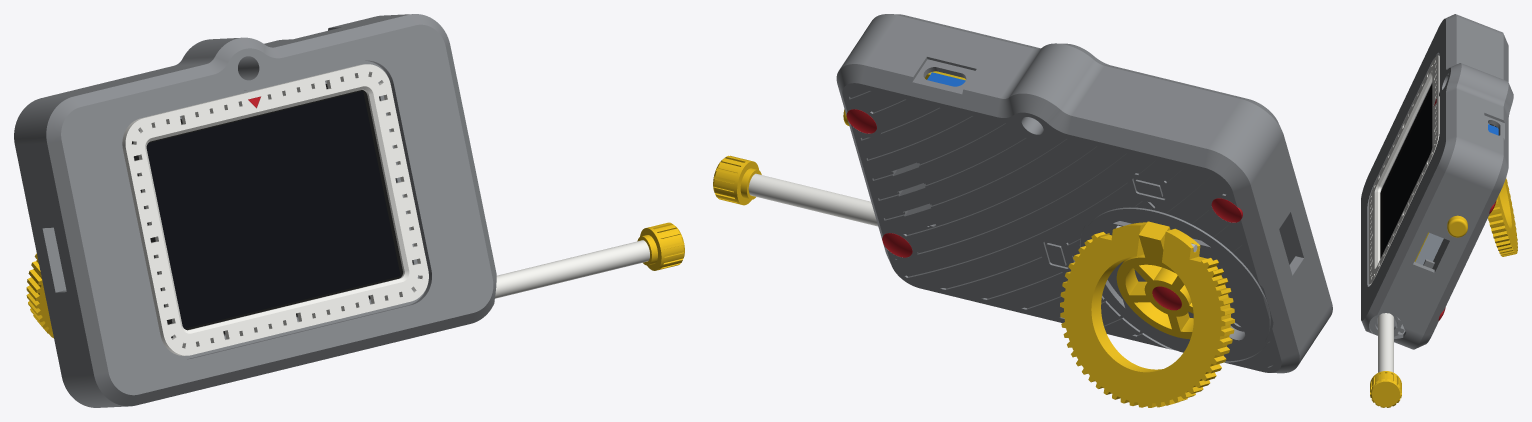
File: kalem.glb
3 renders of one model, left to right at view 1: azimuth 30°, elevation 25°; view 2: azimuth 150°, elevation 25°; view 3: azimuth 270°, elevation 25°, orthographic. The views are drawn at different scales.
Visible parts, largest first — view 1: on_kasa, ekran, panel, arka_kapak, kalem, ic_lcd, kurma_kolu, cark_halka; view 2: arka_kapak, on_kasa, cark_halka, cark_gobek, kalem, kurma_kolu; view 3: on_kasa, arka_kapak, panel, ekran, cark_halka, kurma_kolu, kalem, ic_lcd, ic_pil, itici.
Part boxes in pixels (x1,y1,x2,y2): on_kasa: [24, 14, 496, 407]; ekran: [146, 91, 400, 328]; panel: [122, 64, 428, 355]; arka_kapak: [14, 15, 388, 407]; kalem: [495, 240, 649, 298]; ic_lcd: [132, 84, 402, 337]; kurma_kolu: [637, 222, 684, 270]; cark_halka: [26, 253, 53, 338]; arka_kapak: [836, 47, 1310, 373]; on_kasa: [851, 14, 1332, 347]; cark_halka: [1060, 222, 1234, 407]; cark_gobek: [1116, 221, 1193, 339]; kalem: [748, 173, 878, 226]; kurma_kolu: [713, 155, 761, 205]; on_kasa: [1361, 14, 1492, 343]; arka_kapak: [1398, 26, 1513, 349]; panel: [1368, 55, 1439, 284]; ekran: [1383, 88, 1432, 252]; cark_halka: [1488, 178, 1517, 256]; kurma_kolu: [1370, 371, 1401, 407]; kalem: [1378, 313, 1393, 372]; ic_lcd: [1380, 83, 1432, 258]; ic_pil: [1415, 123, 1489, 264]; itici: [1447, 215, 1467, 237].
Size of the model in its own units: 0.1545 by 0.0761 by 0.0489.
